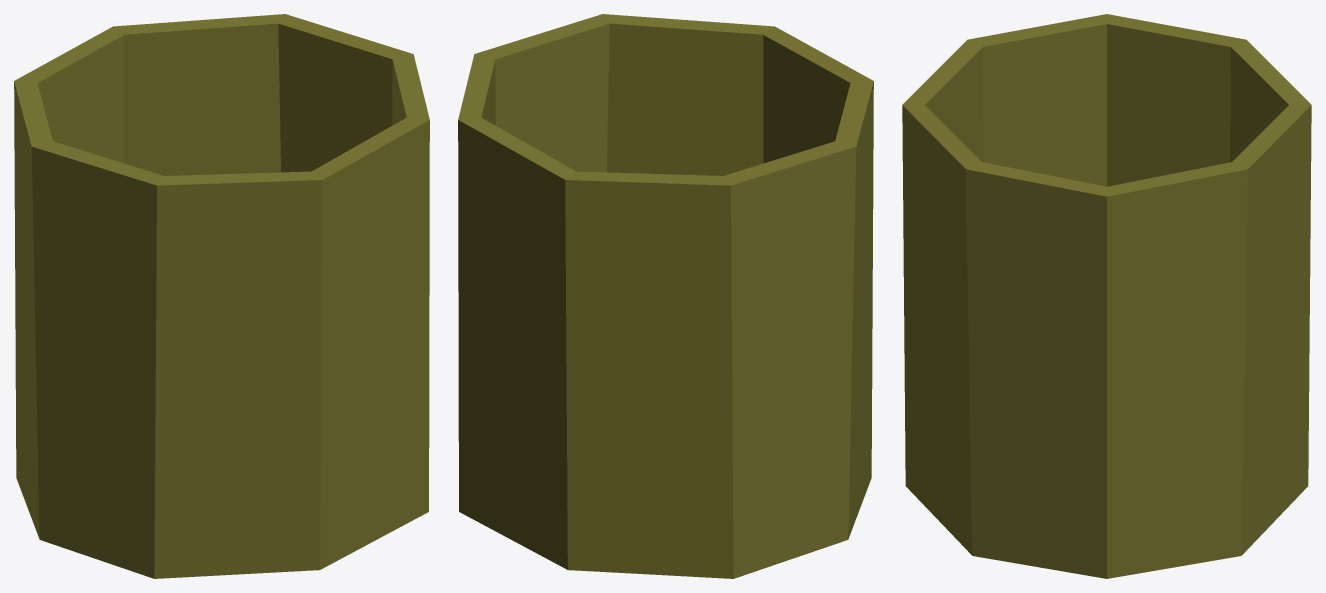
Rendered from Vase.fbx.
3 views of the same model, side by side, from view 1: azimuth 30°, elevation 25°; view 2: azimuth 150°, elevation 25°; view 3: azimuth 270°, elevation 25° (orthographic). The views are drawn at different scales.
Parts seen in each view (by area): view 1: Vase; view 2: Vase; view 3: Vase.
Part boxes in pixels (box(x1,y1,x2,y2)): Vase: box(14, 14, 429, 578); Vase: box(458, 14, 873, 578); Vase: box(902, 14, 1311, 578).
Bounding box in the file's own units: 20.22 × 19.22 × 20.34.
